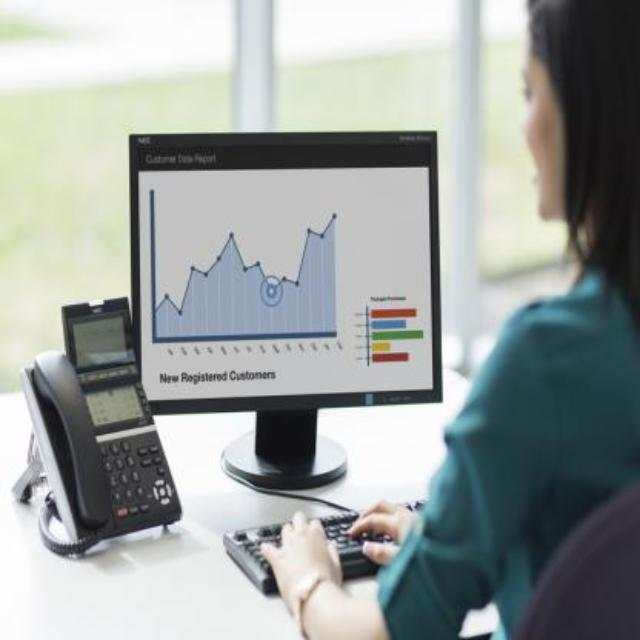Flat-Panel-Monitor: (124, 128, 452, 416)
Telephone-Set: (14, 343, 192, 565)
